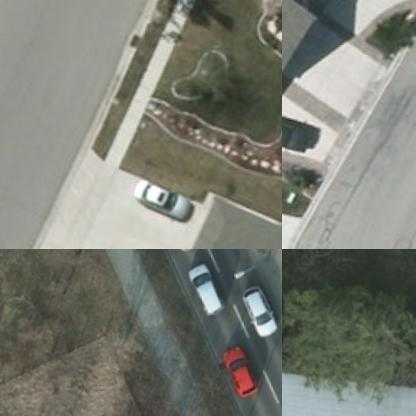car: (127, 174, 194, 238), (240, 288, 274, 344), (221, 350, 256, 404), (182, 270, 218, 320), (282, 114, 314, 162), (169, 249, 198, 261)
